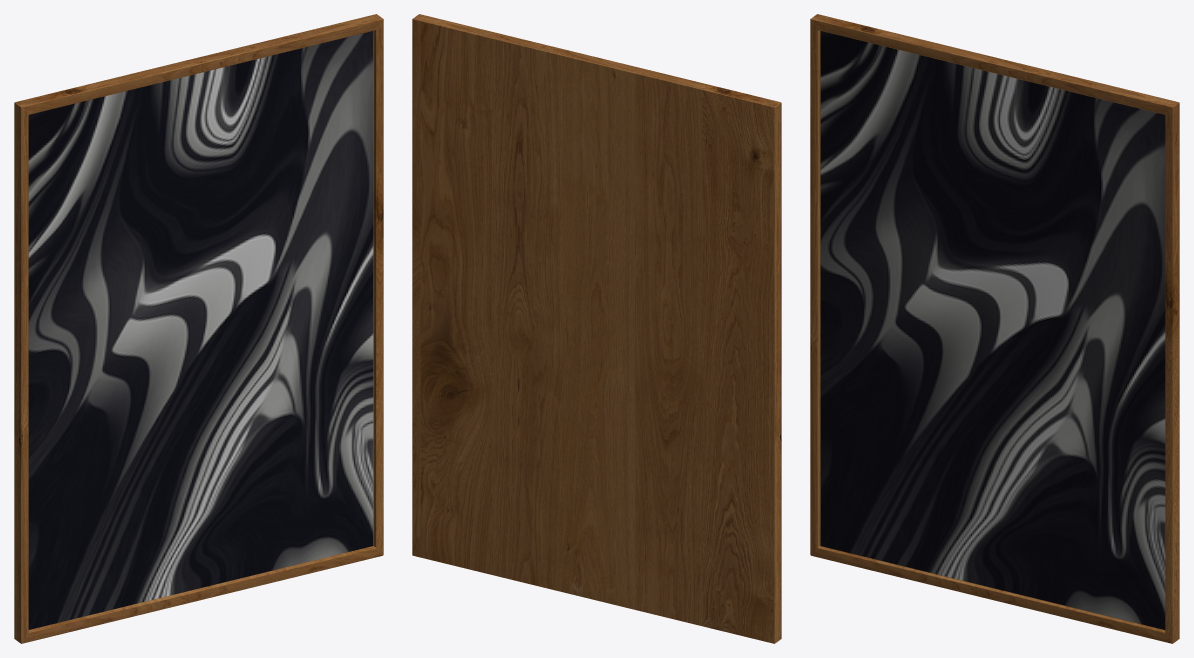
The model's file is MEGA_PACK_Painting__painting_366907_Frame_29X42cm_WalnutWood.glb.
3 views of the same model, side by side, from view 1: azimuth 30°, elevation 25°; view 2: azimuth 150°, elevation 25°; view 3: azimuth 330°, elevation 25° (orthographic).
Visible parts, largest first — view 1: painting_366907_Frame_29X42cm_WalnutWood; view 2: painting_366907_Frame_29X42cm_WalnutWood; view 3: painting_366907_Frame_29X42cm_WalnutWood.
Boxes of the visible parts, x1,y1,x2,y2 form: painting_366907_Frame_29X42cm_WalnutWood: (14, 14, 383, 643); painting_366907_Frame_29X42cm_WalnutWood: (412, 14, 781, 643); painting_366907_Frame_29X42cm_WalnutWood: (810, 14, 1179, 643).
Bounding box in the file's own units: 0.297 × 0.42 × 0.01.
2 materials, 2 textured.
